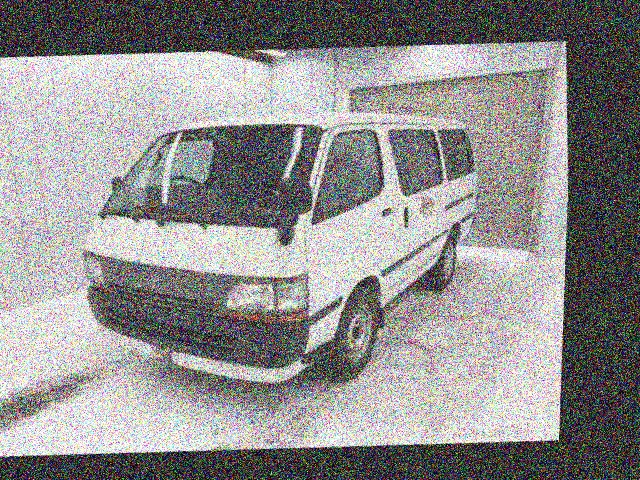van: (72, 95, 490, 394)
